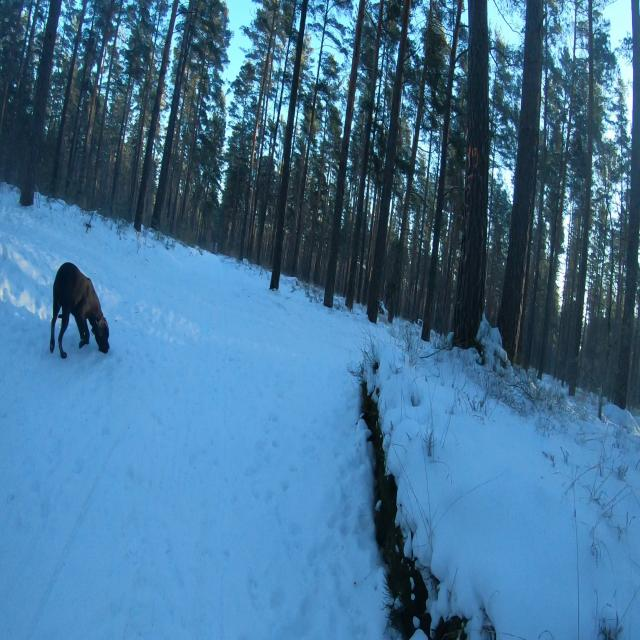trees: (498, 0, 543, 359), (538, 0, 577, 379), (388, 0, 433, 322), (422, 0, 462, 341), (368, 0, 410, 323), (324, 0, 365, 308), (454, 0, 489, 348), (346, 0, 383, 309), (270, 0, 307, 289), (568, 0, 594, 395), (290, 4, 328, 273), (614, 0, 639, 408), (134, 0, 178, 231), (151, 0, 193, 229), (240, 13, 275, 259), (20, 0, 61, 206), (50, 0, 87, 194), (525, 67, 548, 368), (130, 2, 162, 207), (91, 0, 123, 204), (65, 14, 94, 194), (267, 4, 296, 167), (85, 0, 114, 157), (614, 78, 629, 320), (110, 76, 132, 213), (255, 56, 272, 207), (417, 129, 433, 269), (186, 83, 203, 177), (22, 0, 40, 66), (18, 0, 32, 84), (370, 84, 382, 163), (602, 159, 613, 238), (257, 188, 268, 263), (606, 253, 613, 368), (172, 97, 185, 153), (0, 72, 10, 132), (233, 169, 240, 216), (292, 104, 299, 145), (180, 190, 190, 217), (358, 273, 366, 296), (544, 5, 548, 45), (9, 43, 15, 66), (414, 276, 419, 303), (204, 180, 209, 202), (369, 164, 375, 182), (273, 4, 279, 18), (291, 146, 295, 167), (382, 45, 386, 66), (18, 5, 22, 24), (267, 169, 271, 187), (368, 236, 372, 250), (167, 183, 172, 194), (366, 191, 369, 207), (419, 292, 422, 307), (250, 239, 253, 252), (231, 223, 233, 237), (185, 71, 188, 79), (290, 167, 293, 174), (286, 236, 289, 241), (203, 204, 204, 212)
